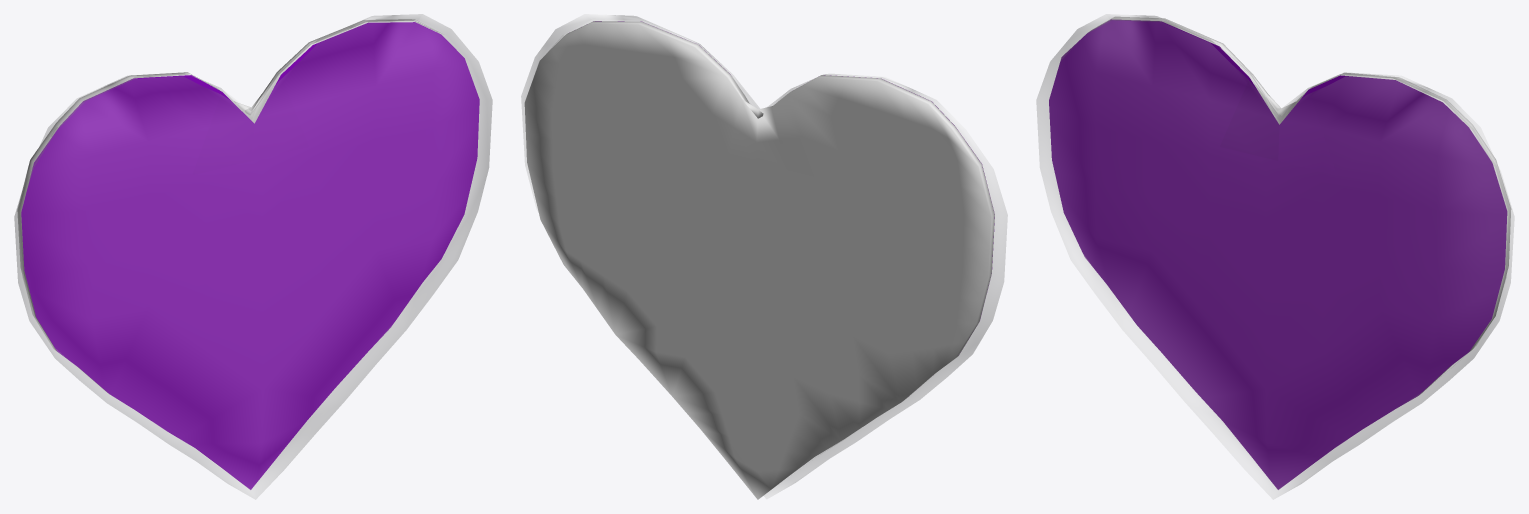
The model's file is heart_pur.glb.
3 renders of one model, left to right at view 1: azimuth 30°, elevation 25°; view 2: azimuth 150°, elevation 25°; view 3: azimuth 330°, elevation 25°, orthographic.
Visible parts, largest first — view 1: 平面, PHOTO_PLANE, 平面11; view 2: 平面11, 平面; view 3: 平面, PHOTO_PLANE, 平面11.
Part boxes in pixels (left/top/right/bottom): 平面: left=14, top=14, right=492, bottom=499; PHOTO_PLANE: left=21, top=22, right=479, bottom=489; 平面11: left=17, top=19, right=439, bottom=391; 平面11: left=524, top=21, right=994, bottom=499; 平面: left=521, top=14, right=1007, bottom=498; 平面: left=1036, top=14, right=1514, bottom=499; PHOTO_PLANE: left=1049, top=19, right=1507, bottom=489; 平面11: left=1091, top=16, right=1511, bottom=394.
Size of the model in its own units: 2.28 by 2.05 by 0.1344.
